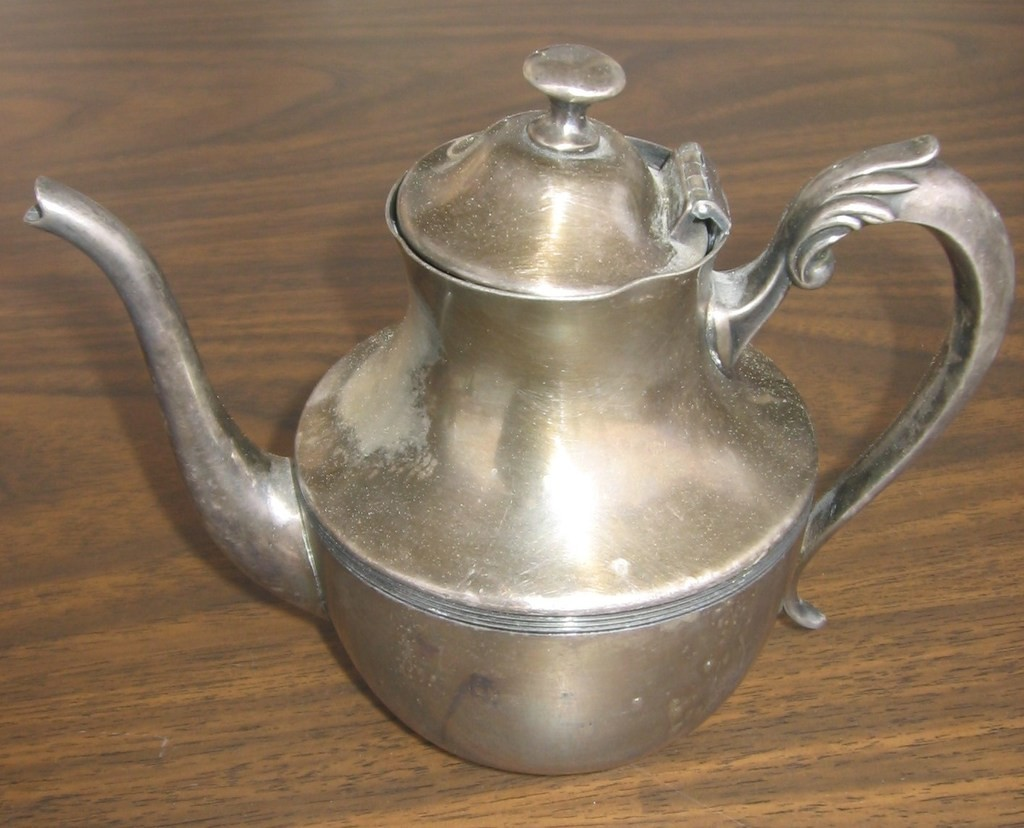teapot: (22, 43, 1016, 776)
